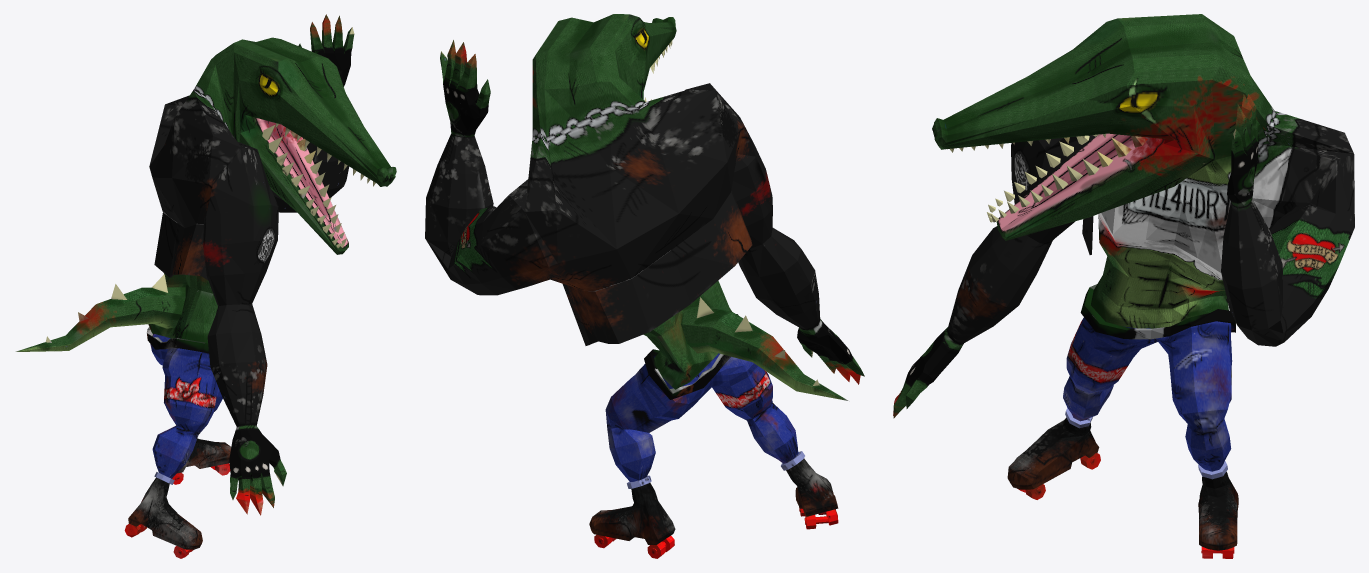
File: cocodrilaBonesSelect_000045.obj
The picture shows the model from 3 angles, left to right: view 1: azimuth 30°, elevation 25°; view 2: azimuth 150°, elevation 25°; view 3: azimuth 270°, elevation 25°; orthographic projection. The views are drawn at different scales.
Parts seen in each view (by area): view 1: Crocodile.002_Cylinder.002; view 2: Crocodile.002_Cylinder.002; view 3: Crocodile.002_Cylinder.002.
Boxes of the visible parts, left/top/right/bottom form: Crocodile.002_Cylinder.002: left=15, top=14, right=396, bottom=558; Crocodile.002_Cylinder.002: left=425, top=14, right=864, bottom=558; Crocodile.002_Cylinder.002: left=893, top=14, right=1354, bottom=558.
Bounding box in the file's own units: 5.22 × 6.17 × 4.65.
